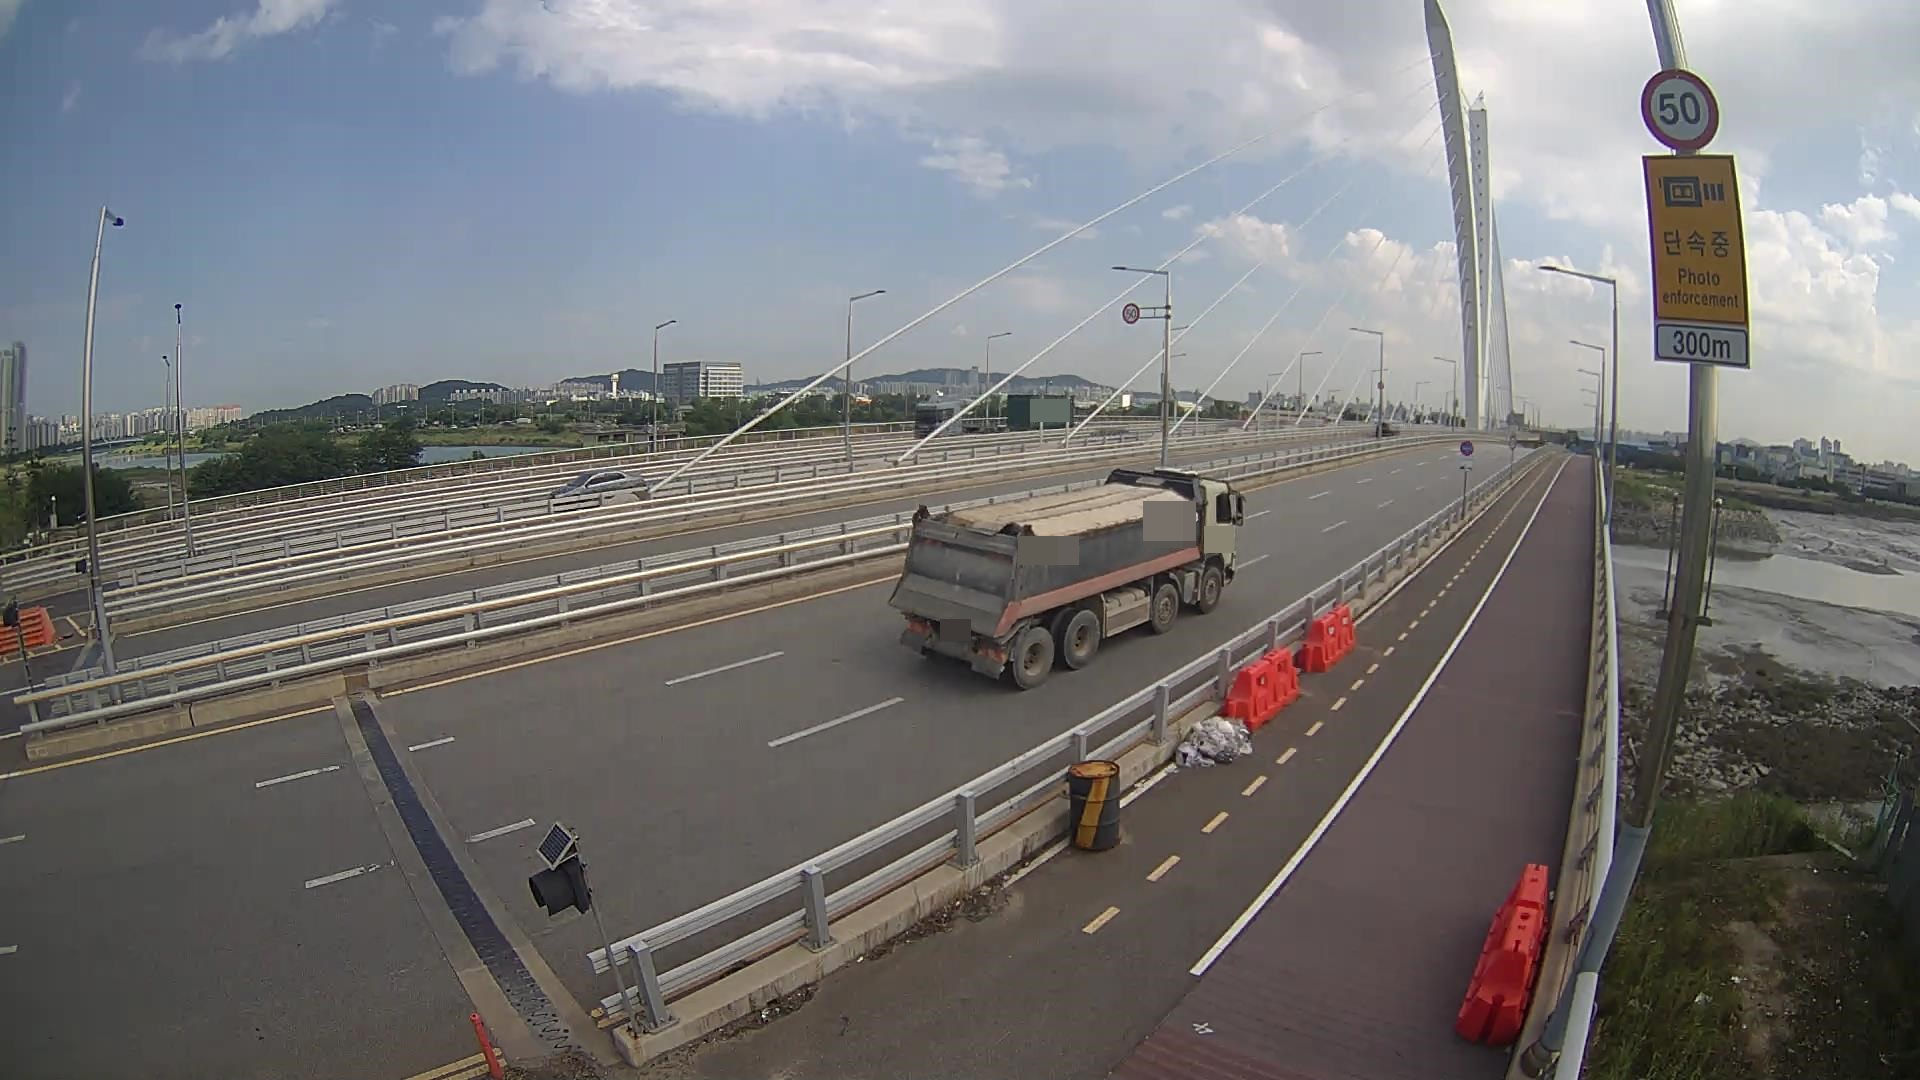정상차량: (886, 466, 1249, 689)
